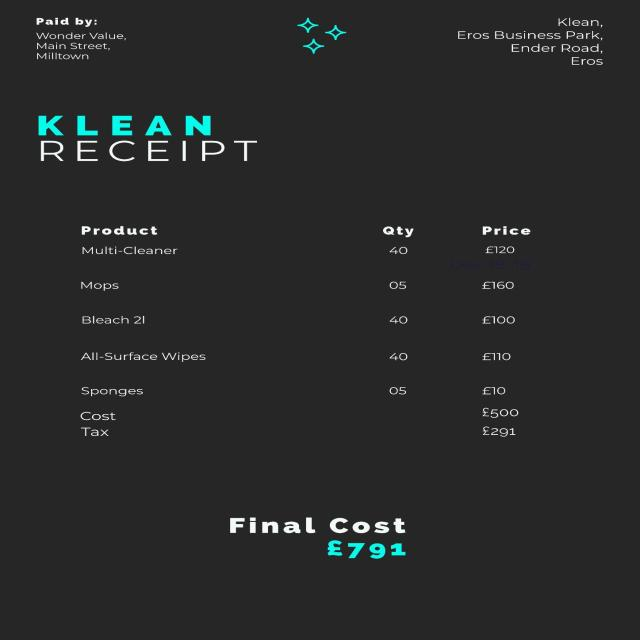paragraph: (78, 404, 526, 450), (35, 109, 263, 174), (225, 511, 412, 563), (447, 16, 614, 67), (29, 14, 134, 64)
table: (79, 221, 538, 397)
